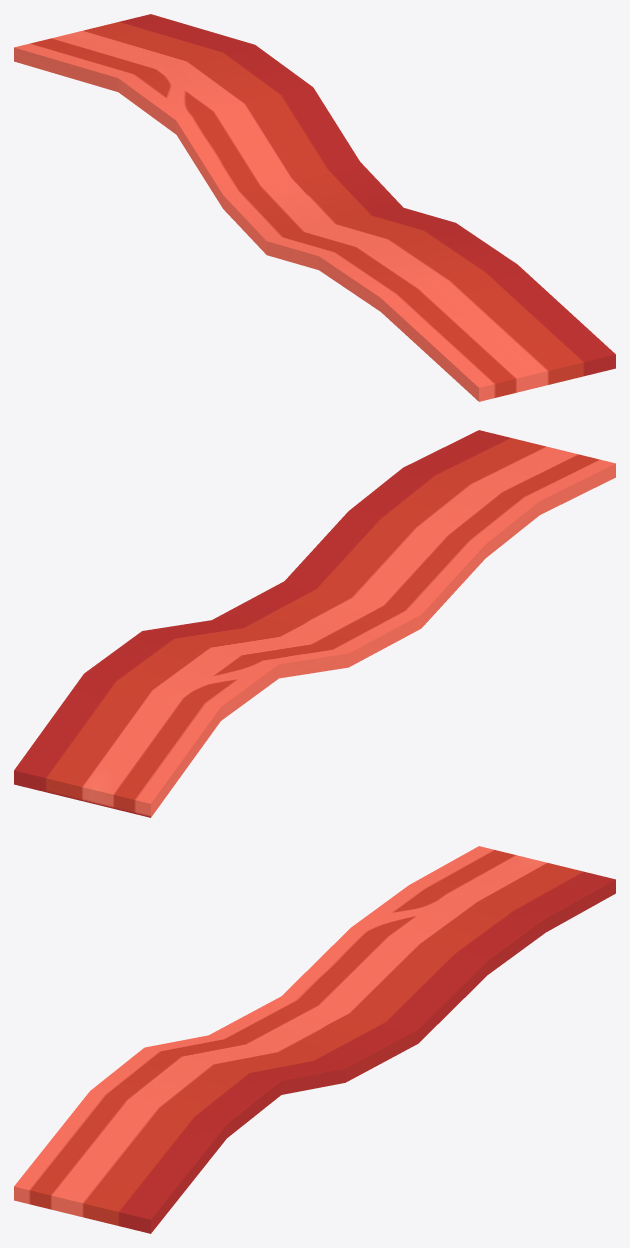
The model's file is Bacon_Slice_Bacon_0.glb.
The picture shows the model from 3 angles, top to bottom: view 1: azimuth 30°, elevation 25°; view 2: azimuth 150°, elevation 25°; view 3: azimuth 330°, elevation 25°; orthographic projection.
Parts seen in each view (by area): view 1: Bacon_Slice_Bacon_0; view 2: Bacon_Slice_Bacon_0; view 3: Bacon_Slice_Bacon_0.
Boxes of the visible parts, x1,y1,x2,y2 form: Bacon_Slice_Bacon_0: [14, 14, 615, 401]; Bacon_Slice_Bacon_0: [14, 430, 615, 817]; Bacon_Slice_Bacon_0: [14, 846, 615, 1233].
Bounding box in the file's own units: 0.0411 × 0.01 × 0.1962.
1 material, 1 textured.
